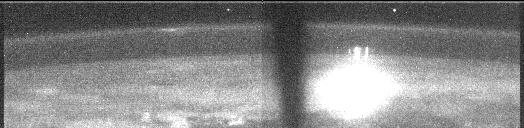positive: (345, 46, 373, 68)
